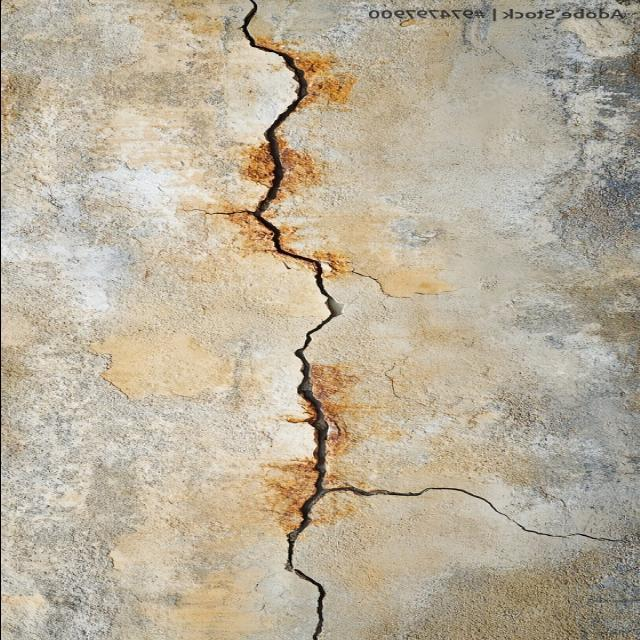crack: (210, 0, 402, 640), (407, 478, 637, 556)
